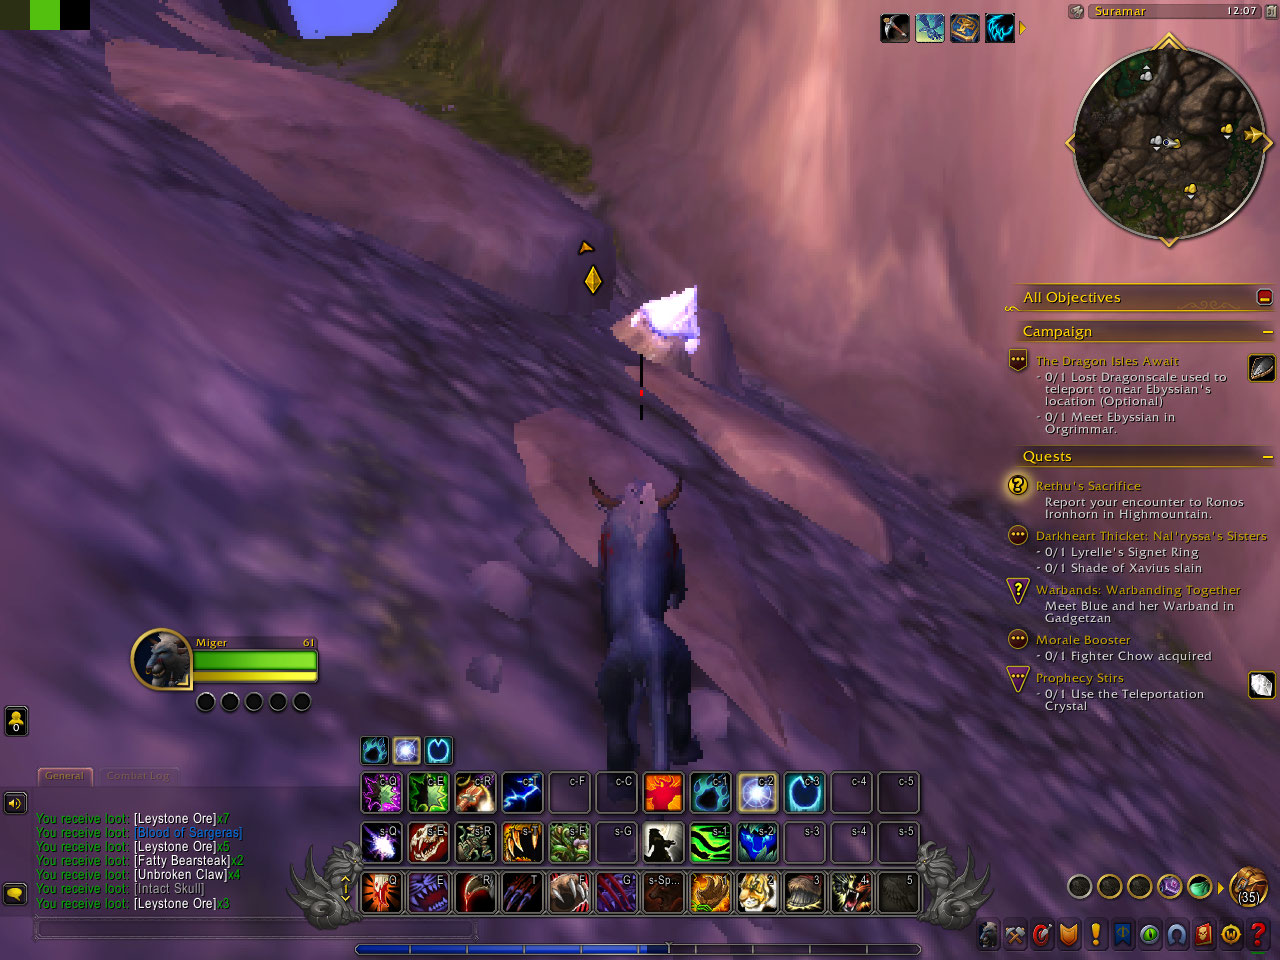ore: (606, 284, 703, 374)
